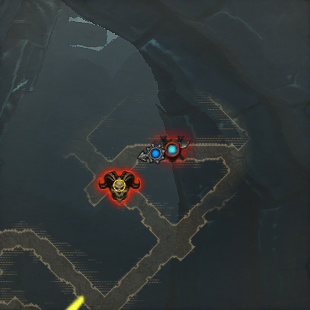Guardian: (96, 170, 142, 204)
